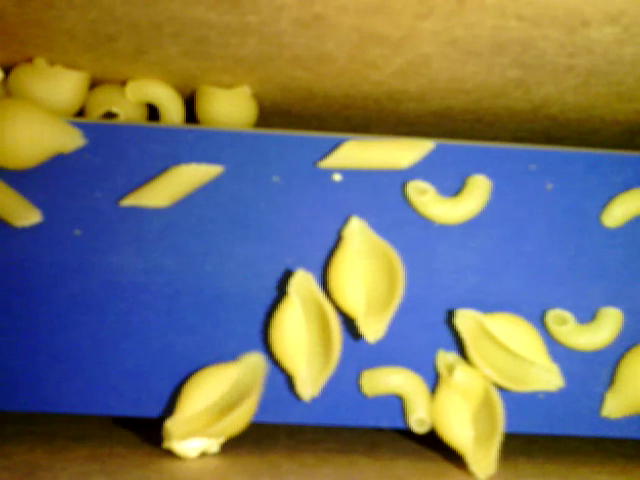elbow: (359, 362, 430, 434), (403, 173, 492, 224), (543, 307, 625, 353), (127, 73, 183, 124), (444, 357, 489, 407), (597, 187, 639, 229)
penne: (118, 160, 222, 207), (316, 137, 440, 169), (1, 174, 43, 228)
shell: (324, 217, 406, 345), (160, 351, 266, 448), (451, 305, 566, 393), (268, 268, 341, 402), (429, 348, 505, 476), (1, 94, 90, 170), (6, 56, 91, 120), (193, 83, 260, 128), (601, 340, 639, 419), (86, 82, 149, 125)
